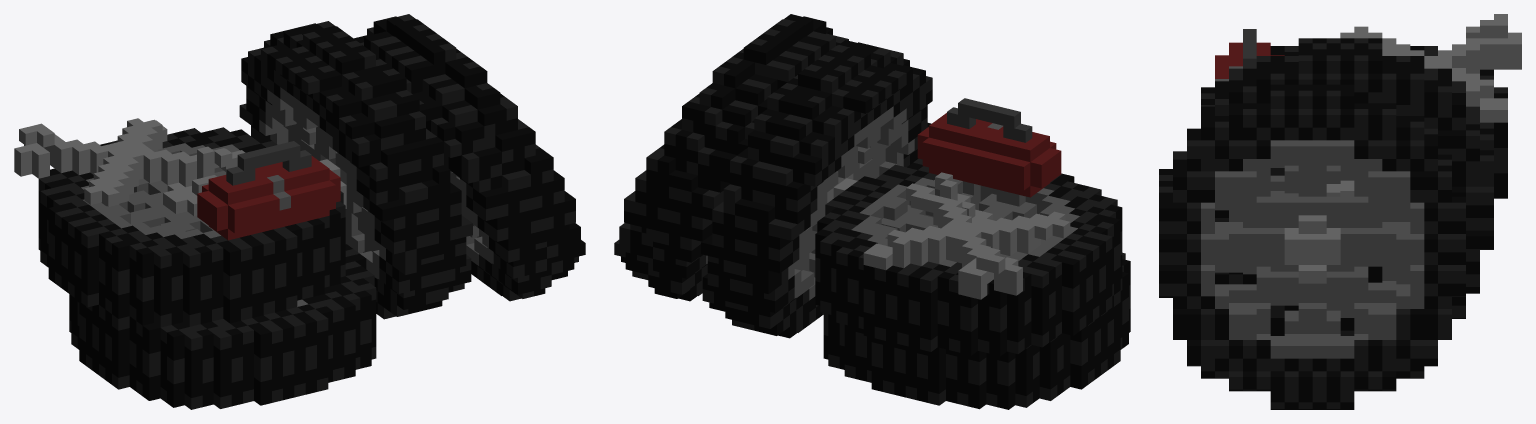
Rendered from wheels_2.obj.
3 renders of one model, left to right at view 1: azimuth 30°, elevation 25°; view 2: azimuth 150°, elevation 25°; view 3: azimuth 270°, elevation 25°, orthographic. The views are drawn at different scales.
Bounding box in the file's own units: 4 × 2.2 × 2.6.
Materials: 1 (1 with a texture image).
